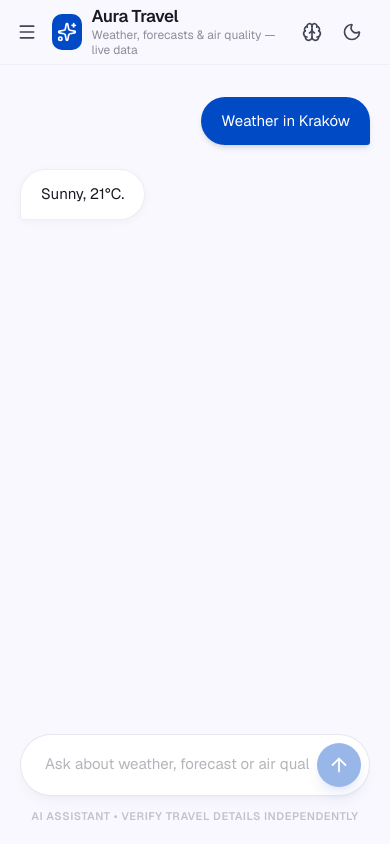
it: Chat frame › opens a chat from the drawer, closes it and focuses the composer
What coordinates should you click on to do the following:
click the button named "Chat history"
I would click on:
 (27, 32)
Its box is x1=12 y1=14 x2=42 y2=50.
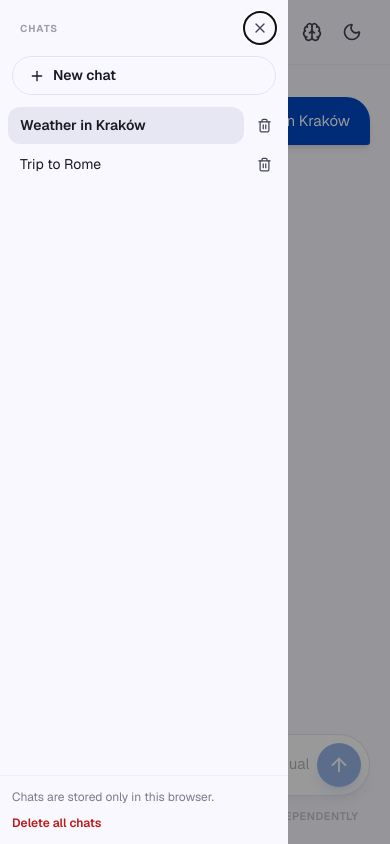
What coordinates should you click on to do the following:
click the button "Trip to Rome"
I would click on:
 (126, 164)
Its box is x1=8 y1=146 x2=244 y2=183.
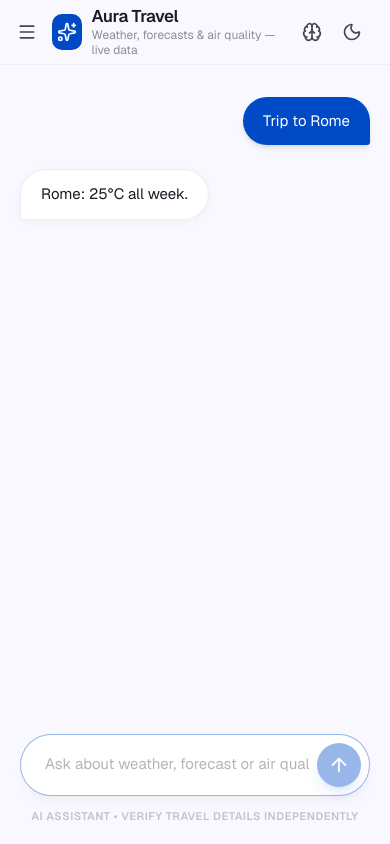
Check: the dialog is gone
Check: the text "Rome: 25°C all week." is shown, box x1=20 y1=169 x2=209 y2=220
